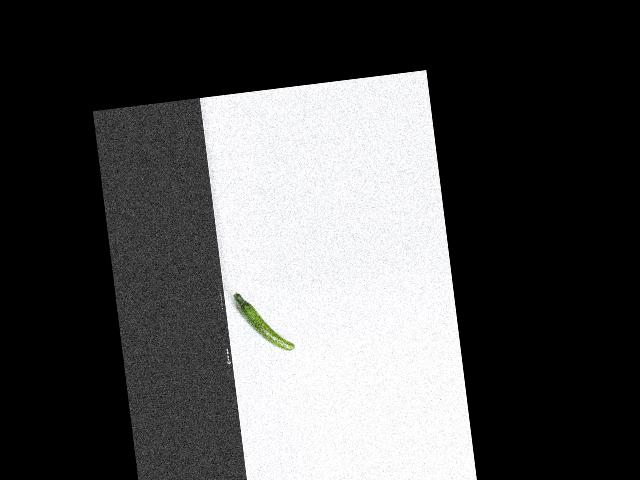cucumber: (233, 285, 294, 355)
